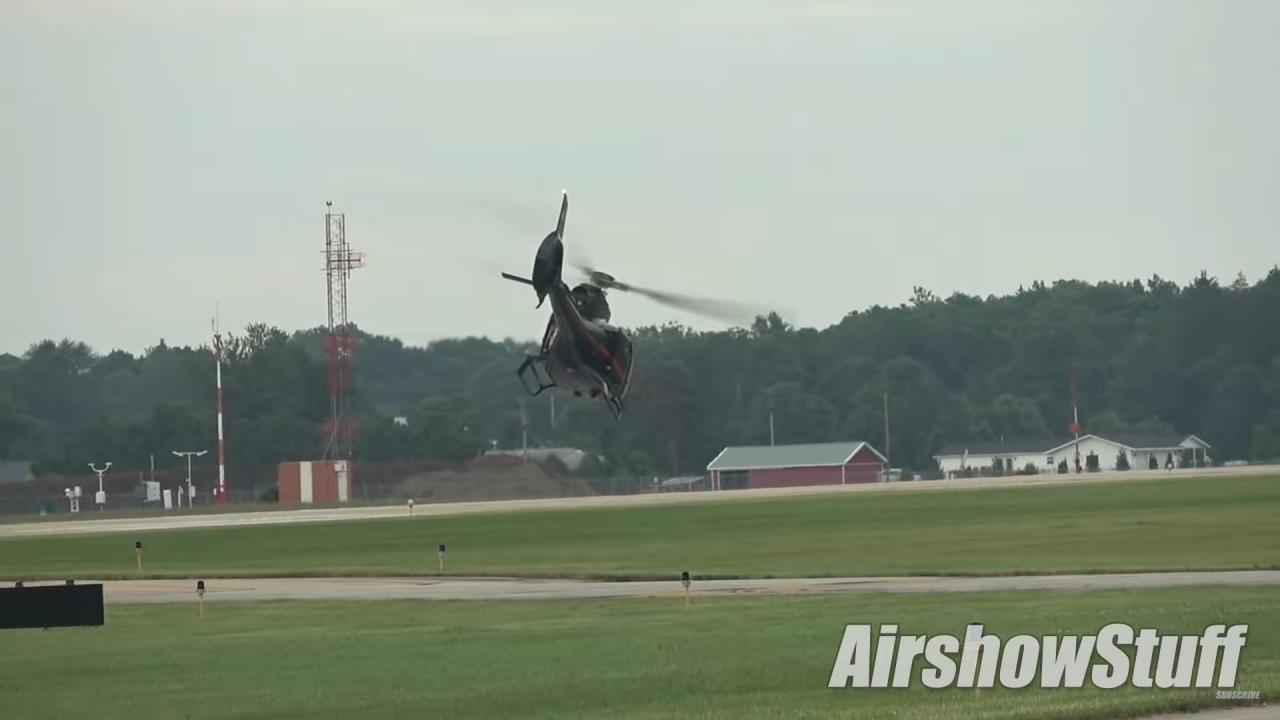Helicopter: (483, 176, 777, 430)
